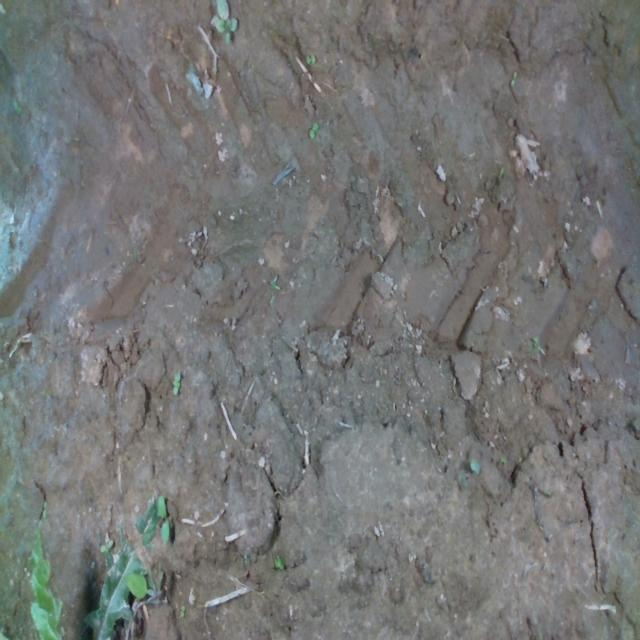weed: (156, 494, 170, 543), (98, 535, 114, 553), (171, 368, 181, 396), (308, 120, 318, 140), (304, 53, 316, 63), (510, 70, 517, 86), (42, 499, 46, 520)
